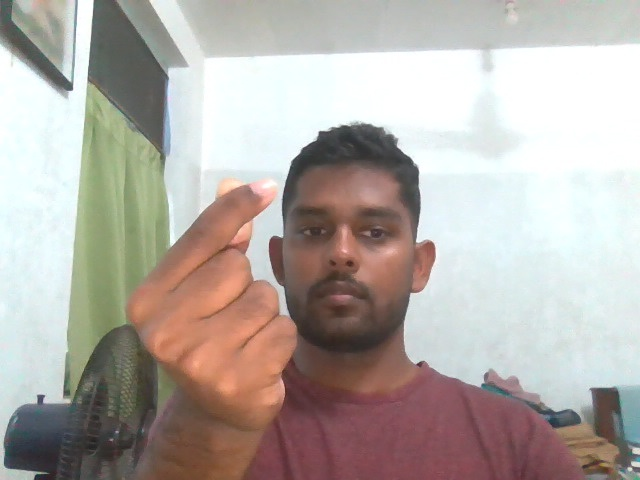iloveyou: (107, 171, 301, 440)
